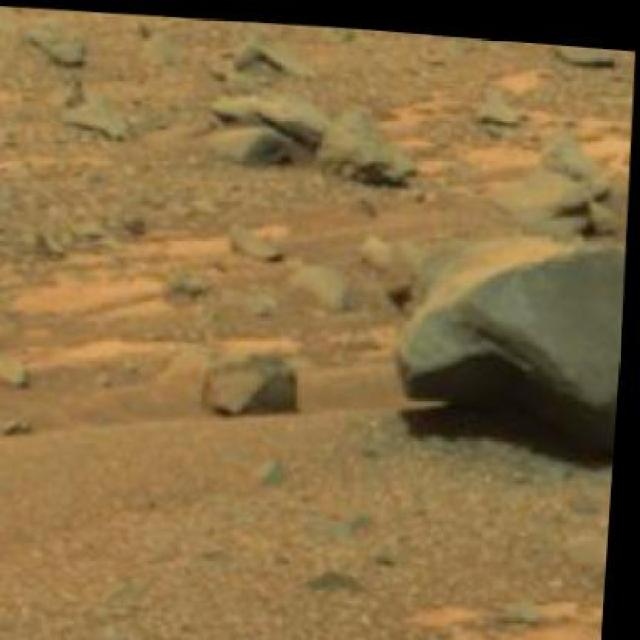rock: (394, 220, 628, 452), (200, 343, 312, 414), (199, 117, 295, 165), (564, 508, 614, 570)
